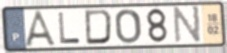8: (145, 6, 170, 45)
A: (23, 9, 60, 47)
D: (83, 8, 114, 46)
L: (57, 11, 82, 45)
N: (173, 5, 203, 45)
O: (114, 8, 143, 45)
